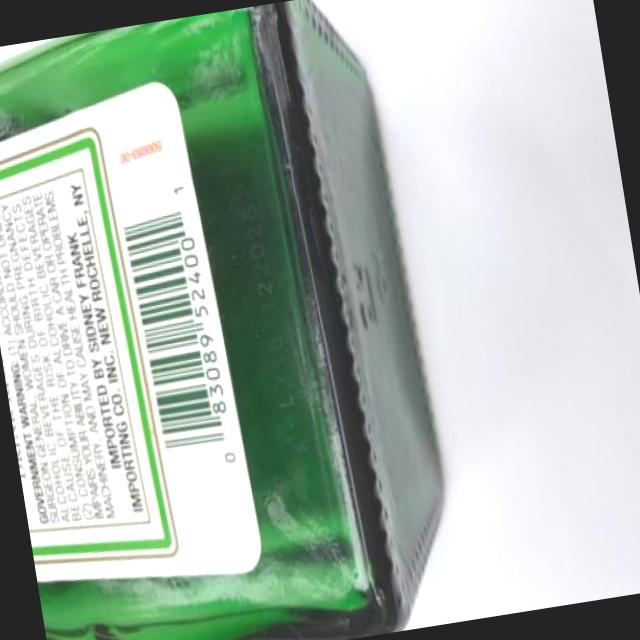chai_thuy_tinh: (0, 0, 448, 640)
